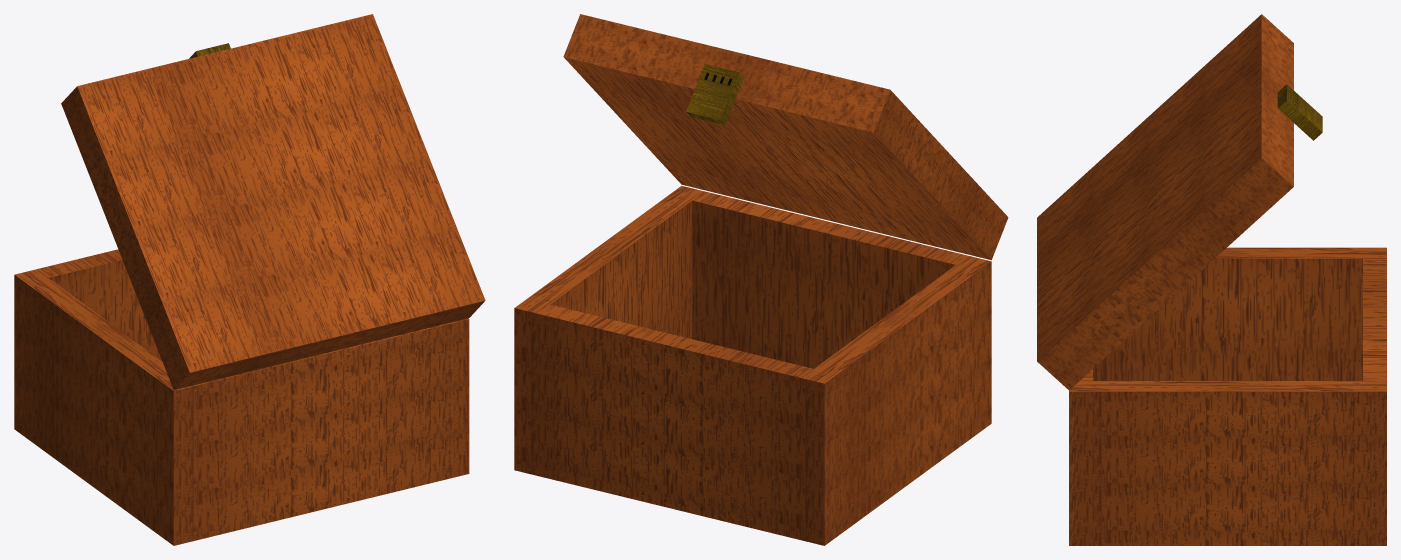
The model's file is BoxOpened.fbx.
The picture shows the model from 3 angles, left to right: view 1: azimuth 30°, elevation 25°; view 2: azimuth 150°, elevation 25°; view 3: azimuth 270°, elevation 25°; orthographic projection. The views are drawn at different scales.
Visible parts, largest first — view 1: BoxOpened; view 2: BoxOpened; view 3: BoxOpened.
Boxes of the visible parts, box(x1,y1,x2,y2) form: BoxOpened: box(14, 14, 485, 545); BoxOpened: box(514, 14, 1008, 545); BoxOpened: box(1037, 14, 1386, 545).
Size of the model in its own units: 1.5 by 1.89 by 1.54.
